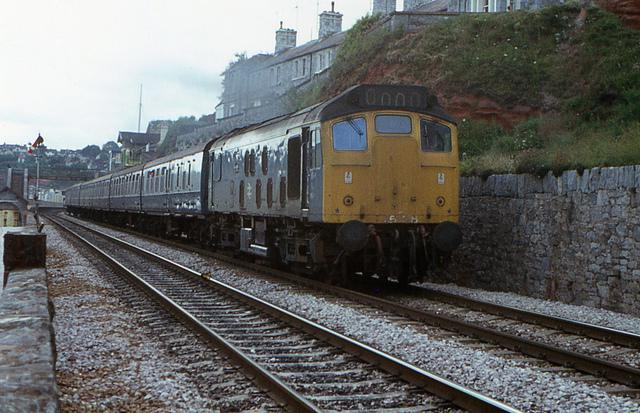Train: (67, 88, 466, 291)
